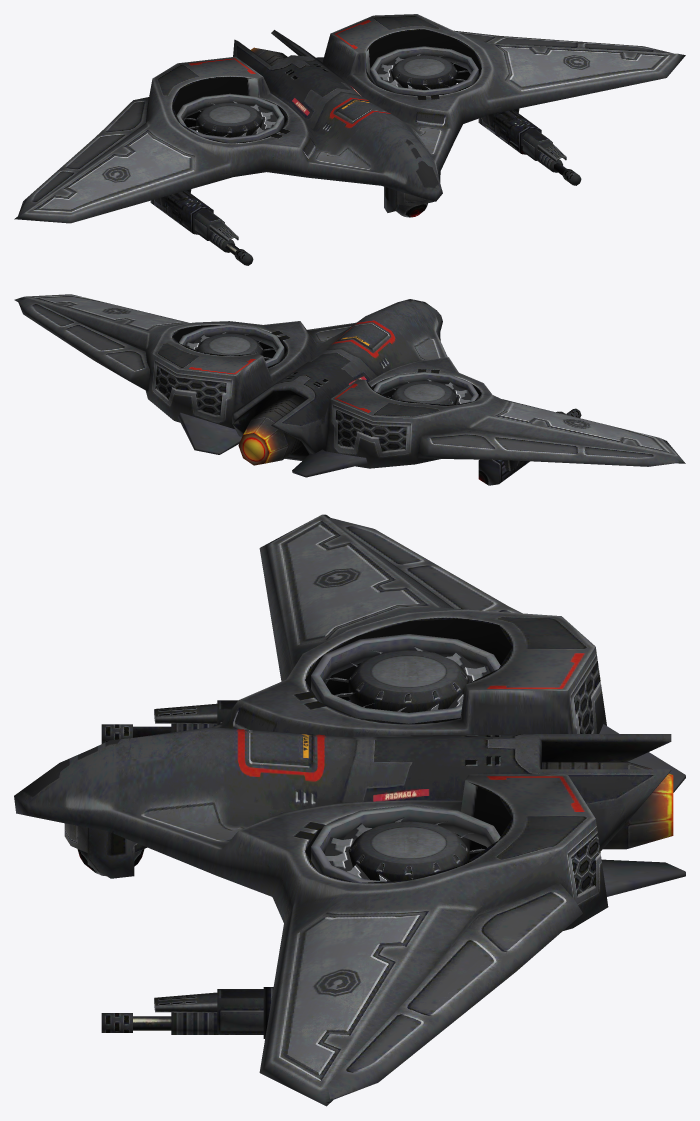
Rendered from Drone.obj.
3 renders of one model, top to bottom at view 1: azimuth 30°, elevation 25°; view 2: azimuth 150°, elevation 25°; view 3: azimuth 270°, elevation 25°, orthographic. The views are drawn at different scales.
Parts seen in each view (by area): view 1: Drone; view 2: Drone; view 3: Drone.
Part boxes in pixels (x1,y1,x2,y2): Drone: [14, 14, 685, 265]; Drone: [14, 294, 685, 485]; Drone: [14, 514, 685, 1106].
Bounding box in the file's own units: 5.01 × 0.6428 × 2.41.
Materials: 1 (1 with a texture image).
